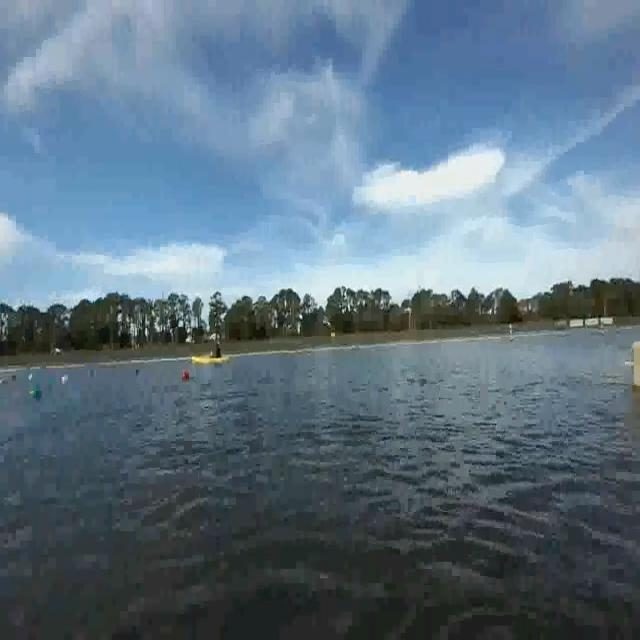red-buoy: (184, 368, 192, 381)
